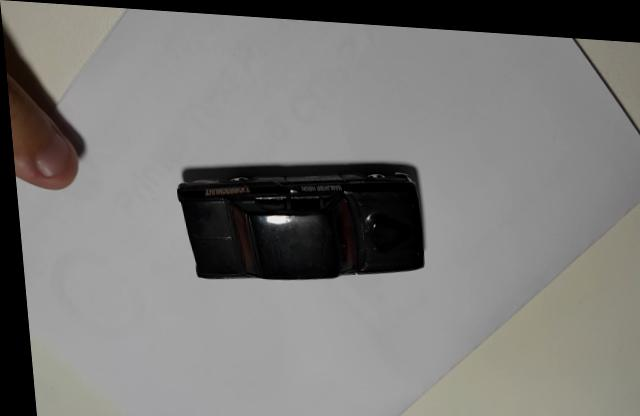01_FORD: (174, 156, 422, 275)
